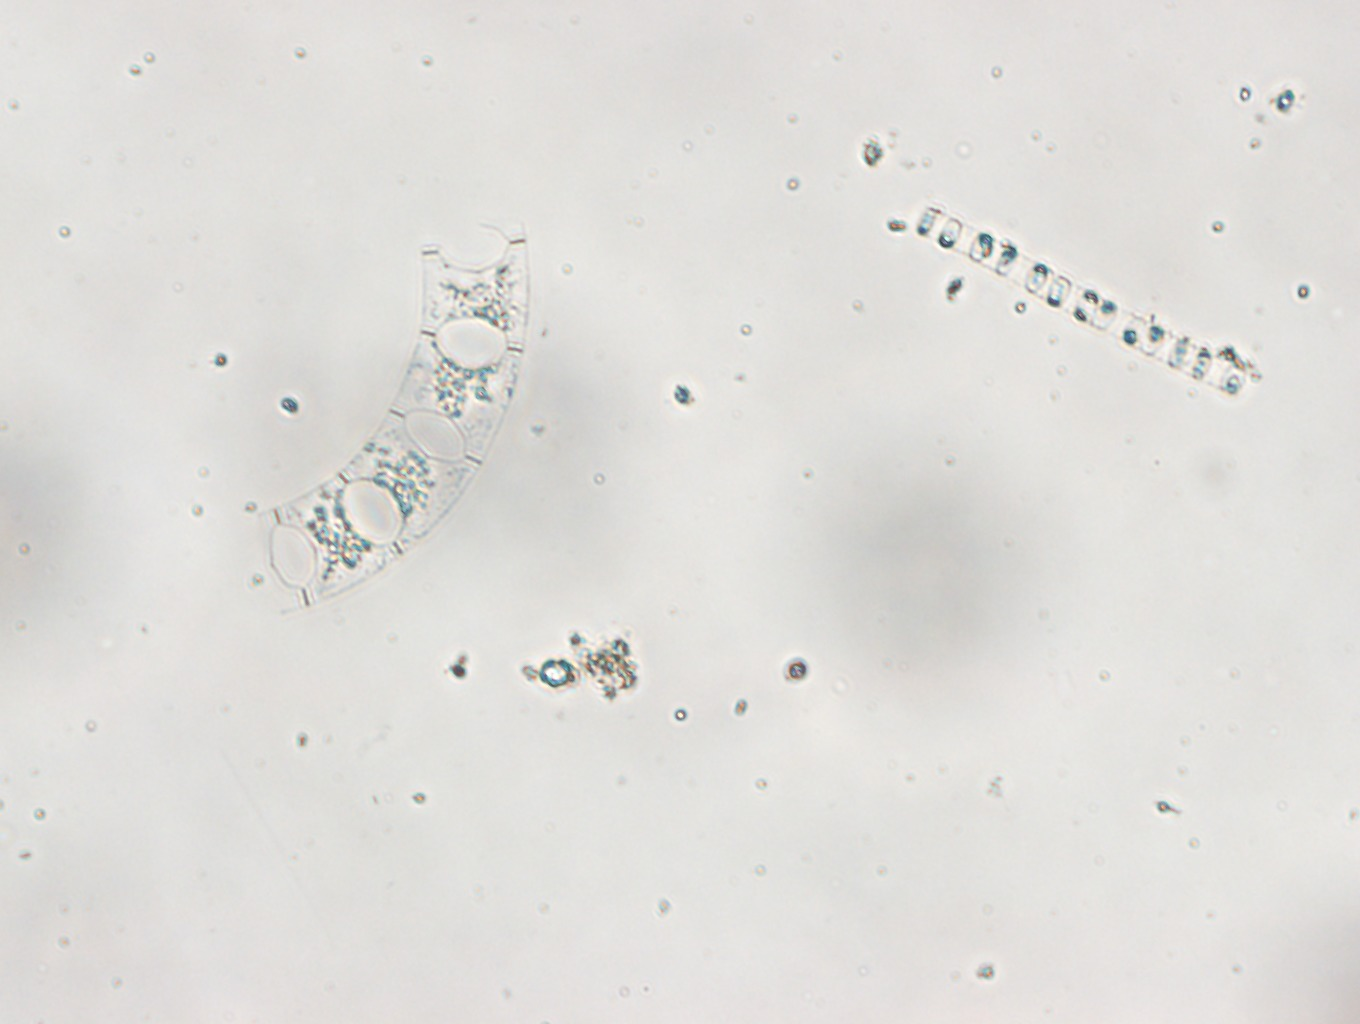eucampia: (240, 197, 531, 630)
skeletonema: (917, 202, 1257, 402)
